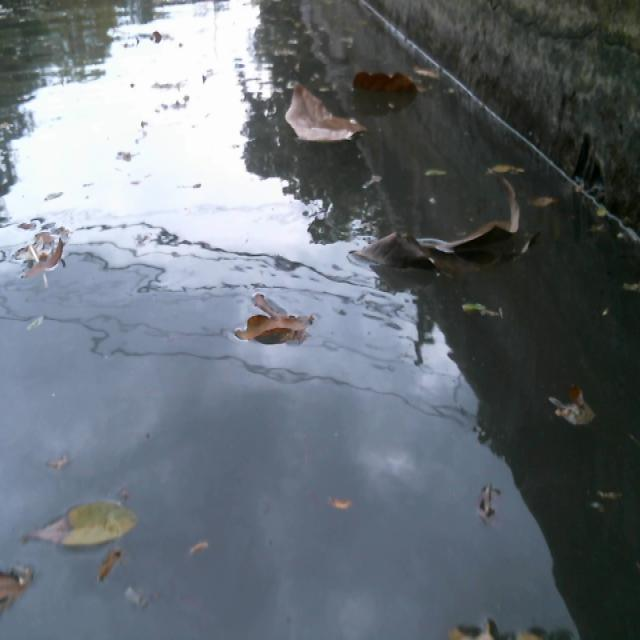Big-leaf: (347, 183, 524, 282), (228, 279, 314, 365), (285, 85, 366, 151), (352, 70, 432, 109)
Small-leaf: (14, 481, 160, 550), (18, 214, 88, 298), (450, 613, 555, 640), (548, 374, 595, 423), (311, 475, 361, 518), (0, 566, 38, 617), (601, 195, 619, 238), (431, 152, 452, 181), (535, 182, 554, 207)
